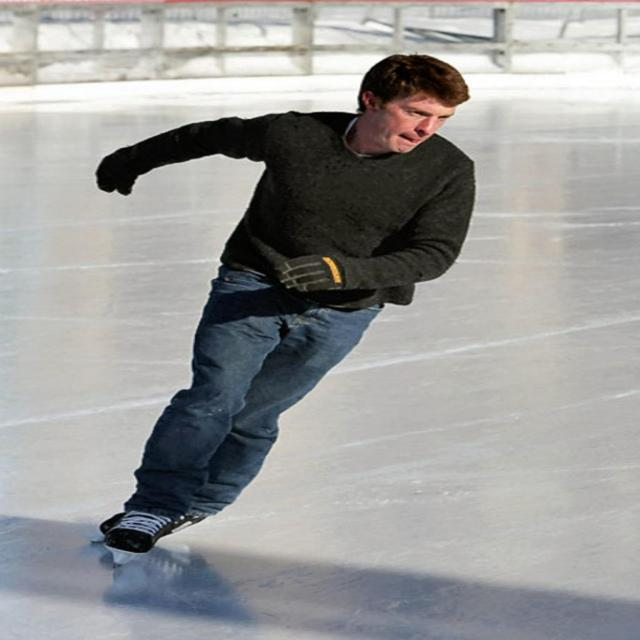nomask: (374, 91, 451, 153)
